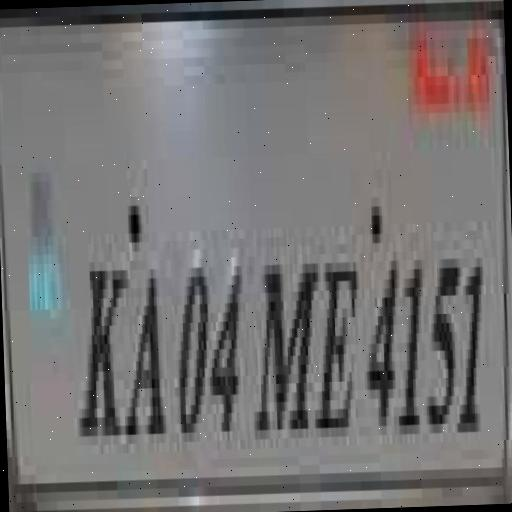number plate: (12, 18, 512, 492)
